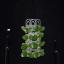leaf: (20, 26, 28, 33), (21, 42, 28, 50), (34, 50, 39, 59), (32, 35, 38, 41), (29, 26, 35, 32), (39, 41, 45, 47), (32, 43, 38, 49), (28, 52, 34, 58), (21, 52, 28, 57), (35, 24, 39, 32), (22, 35, 28, 40), (39, 26, 45, 31), (38, 33, 44, 38), (39, 50, 44, 56), (29, 34, 34, 39)
